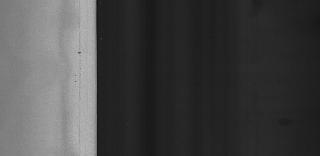oil spot: (73, 72, 79, 84), (76, 50, 82, 54)
